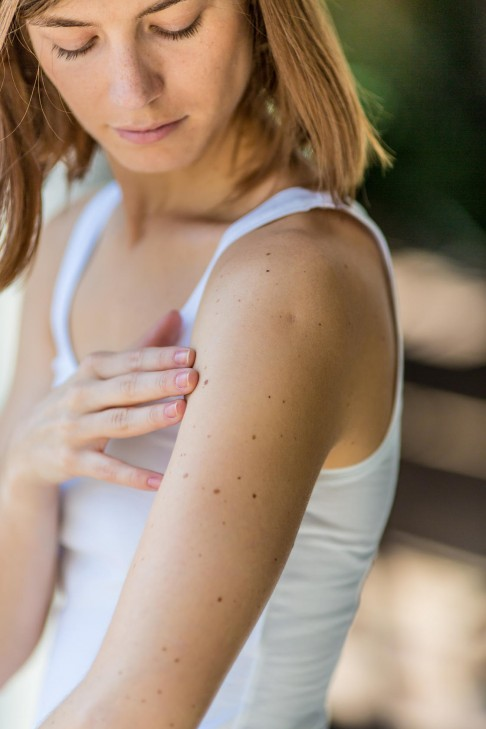mole: (213, 590, 231, 606), (249, 488, 264, 505), (209, 484, 226, 498), (249, 430, 264, 445), (261, 246, 276, 261), (199, 375, 214, 389), (179, 468, 193, 482), (314, 317, 326, 330), (263, 264, 274, 277), (265, 389, 276, 402)
